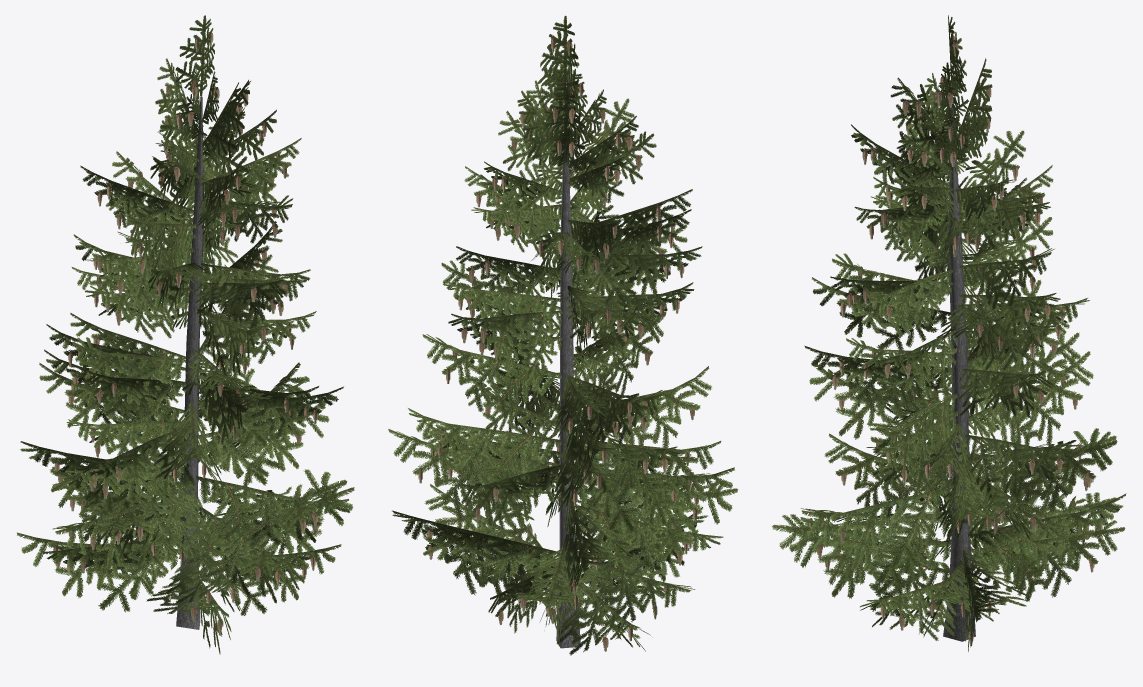
Rendered from Pinus_Contorta_Spring_Young.glb.
The picture shows the model from 3 angles, left to right: view 1: azimuth 30°, elevation 25°; view 2: azimuth 150°, elevation 25°; view 3: azimuth 270°, elevation 25°; orthographic projection. The views are drawn at different scales.
Visible parts, largest first — view 1: Pinus_Contorta_Spring_Young__LOD3; view 2: Pinus_Contorta_Spring_Young__LOD3; view 3: Pinus_Contorta_Spring_Young__LOD3.
Boxes of the visible parts, x1,y1,x2,y2 form: Pinus_Contorta_Spring_Young__LOD3: (17, 15, 354, 654); Pinus_Contorta_Spring_Young__LOD3: (388, 15, 738, 655); Pinus_Contorta_Spring_Young__LOD3: (772, 15, 1126, 651).
Bounding box in the file's own units: 9.38 × 17.46 × 9.09.
Materials: 3 (3 with a texture image).
